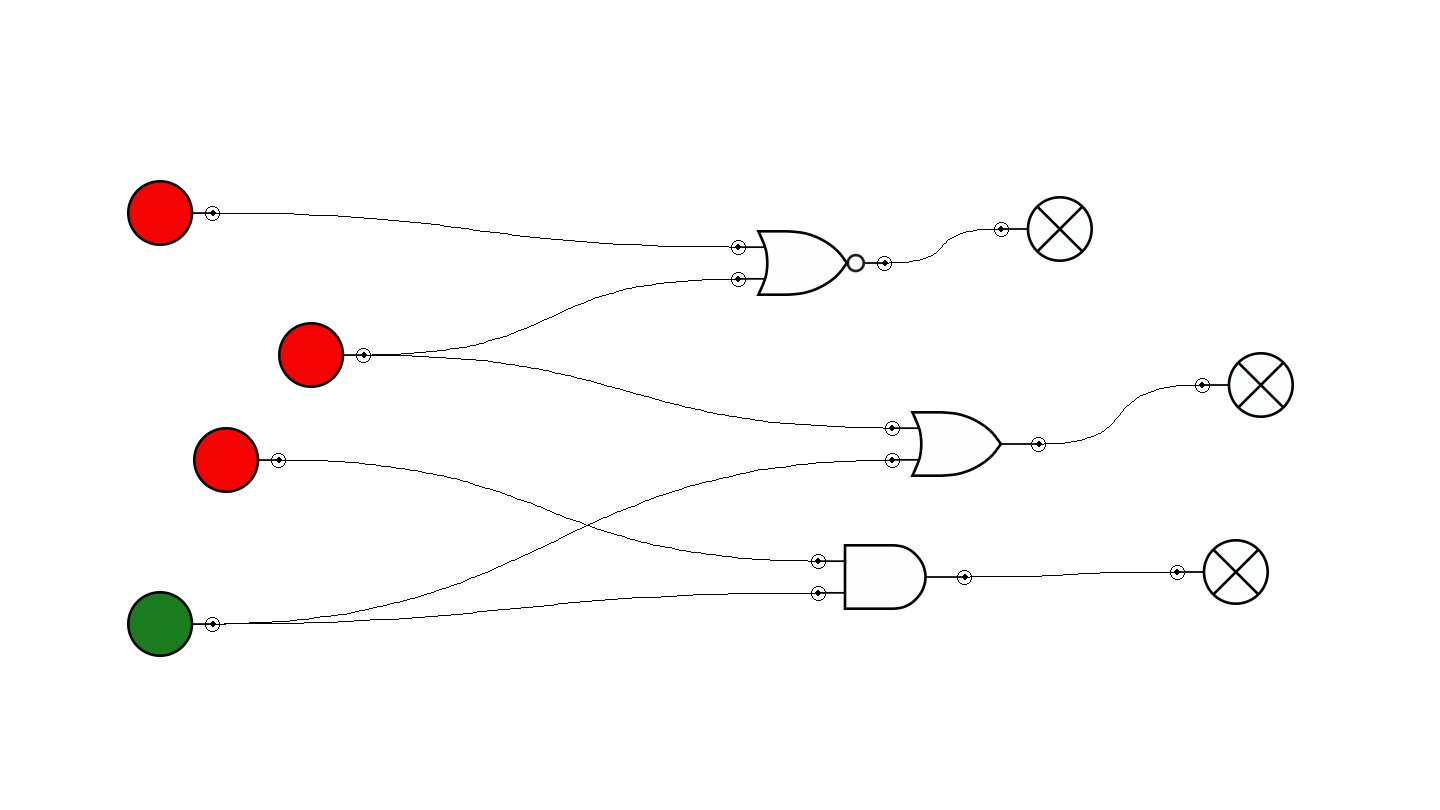and: (811, 544, 972, 610)
bulb: (1170, 539, 1269, 605), (1195, 352, 1294, 418), (994, 196, 1093, 262)
nor: (731, 230, 892, 296)
or: (885, 411, 1046, 477)
switch_False: (278, 322, 371, 388), (127, 180, 220, 246), (193, 427, 286, 493)
switch_True: (127, 591, 220, 657)
